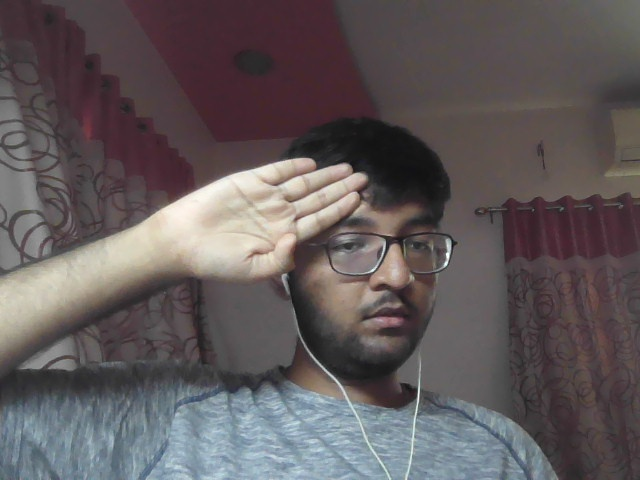નમસ્તે: (103, 150, 372, 298)
